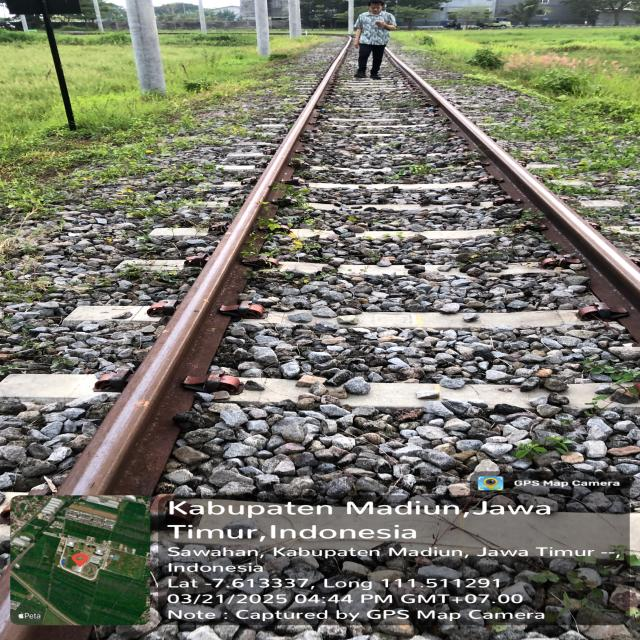rail-detection: (61, 56, 341, 494), (389, 51, 640, 343)
